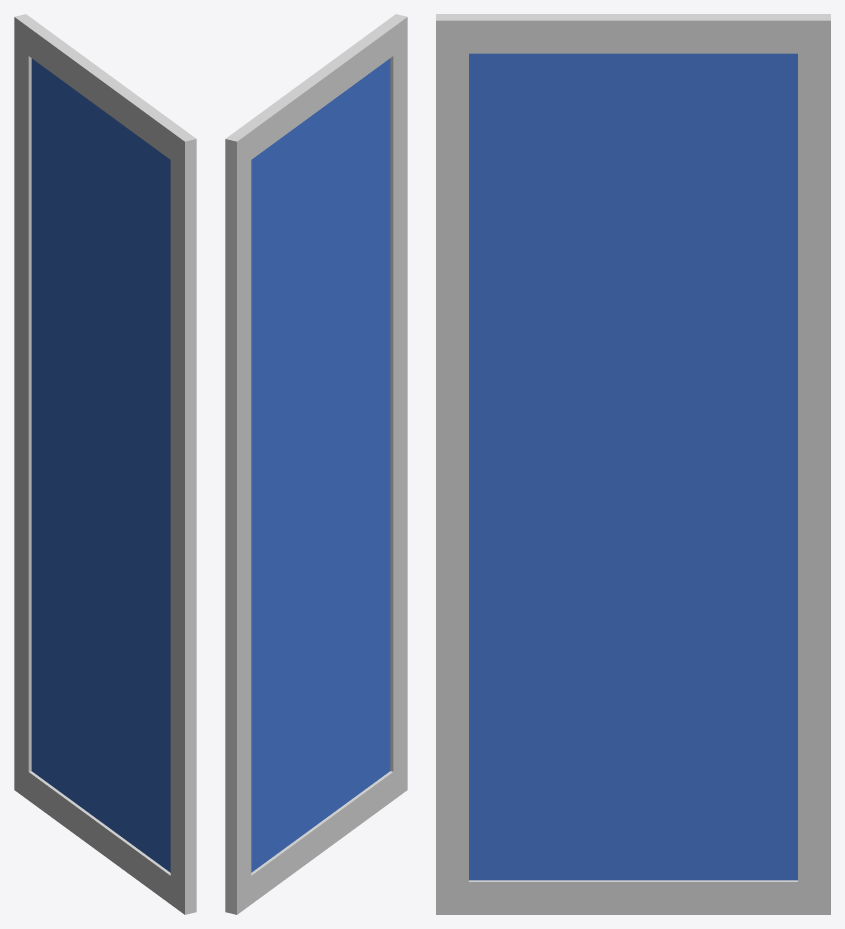
File: Sliding_Door_Mesh.fbx
3 views of the same model, side by side, from view 1: azimuth 30°, elevation 25°; view 2: azimuth 150°, elevation 25°; view 3: azimuth 270°, elevation 25° (orthographic). The views are drawn at different scales.
Visible parts, largest first — view 1: MovingDoor_Example; view 2: MovingDoor_Example; view 3: MovingDoor_Example.
Boxes of the visible parts, <box> form: MovingDoor_Example: <box>14,14,196,914</box>; MovingDoor_Example: <box>225,14,407,914</box>; MovingDoor_Example: <box>436,14,830,914</box>.
Bounding box in the file's own units: 0.0395 × 2.5 × 1.
